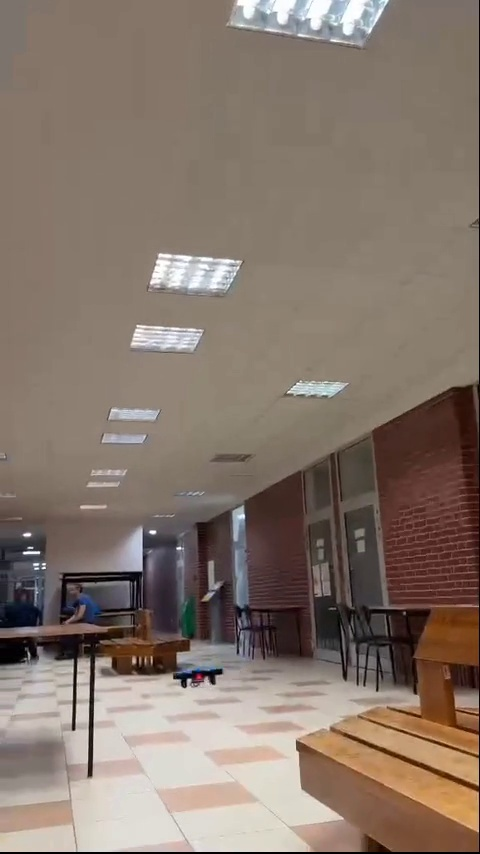drone: (178, 669, 220, 695)
no vest: (57, 580, 103, 626), (6, 585, 45, 628)
